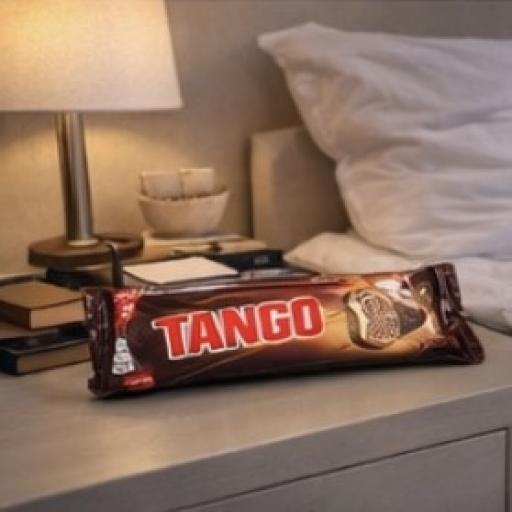tango: (62, 222, 509, 418)
